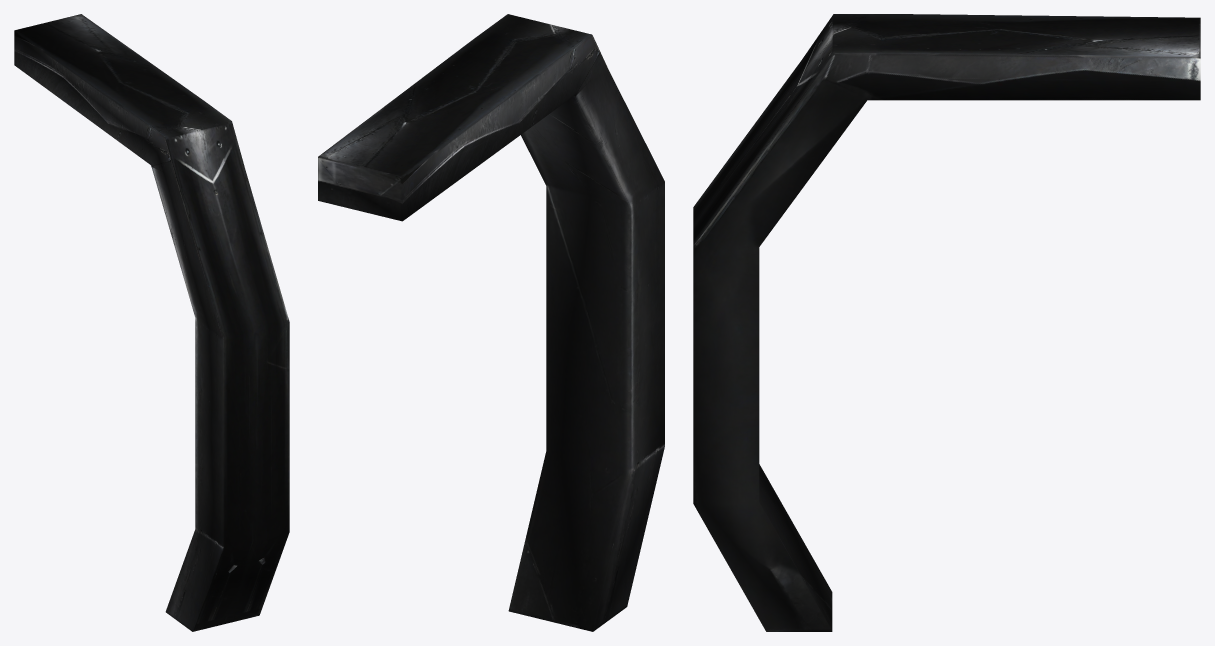
Rendered from _0609224342_texture.fbx.
3 renders of one model, left to right at view 1: azimuth 30°, elevation 25°; view 2: azimuth 150°, elevation 25°; view 3: azimuth 270°, elevation 25°, orthographic. The views are drawn at different scales.
Parts seen in each view (by area): view 1: pCube4; view 2: pCube4; view 3: pCube4.
Part boxes in pixels (<box>): pCube4: <box>14,14,289,631</box>; pCube4: <box>318,14,664,631</box>; pCube4: <box>693,14,1200,631</box>.
Bounding box in the file's own units: 29.59 × 200 × 159.
Materials: 1 (1 with a texture image).
